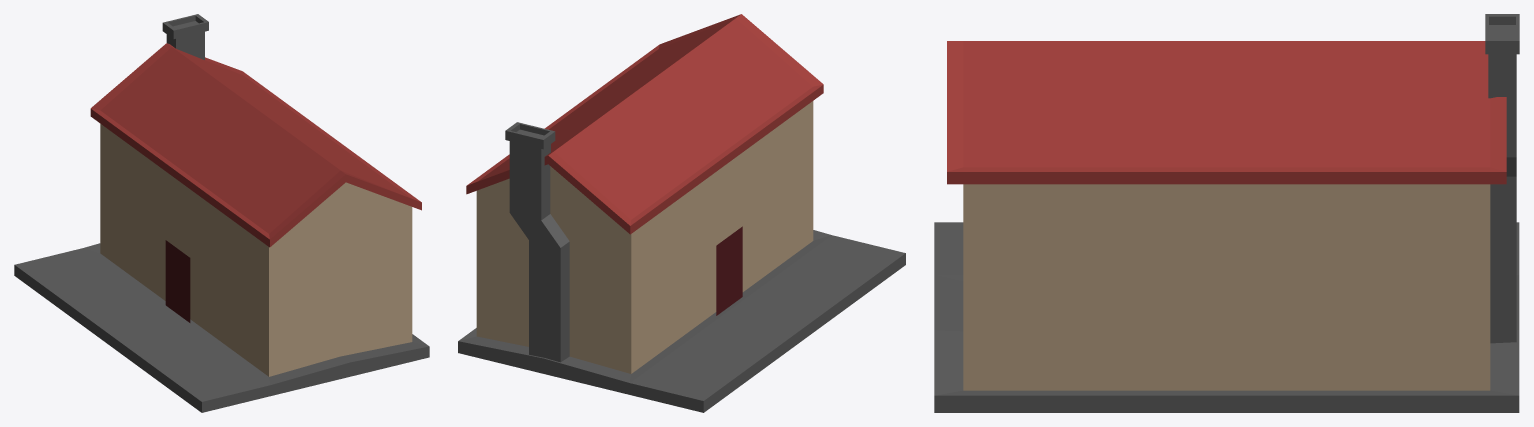
File: Casa3.fbx
3 views of the same model, side by side, from view 1: azimuth 30°, elevation 25°; view 2: azimuth 150°, elevation 25°; view 3: azimuth 270°, elevation 25° (orthographic). The views are drawn at different scales.
Parts seen in each view (by area): view 1: Casa3; view 2: Casa3; view 3: Casa3.
Boxes of the visible parts, x1,y1,x2,y2 form: Casa3: [14, 14, 429, 412]; Casa3: [458, 14, 905, 412]; Casa3: [934, 14, 1519, 412].
Size of the model in its own units: 1.56 by 1.42 by 2.22.
